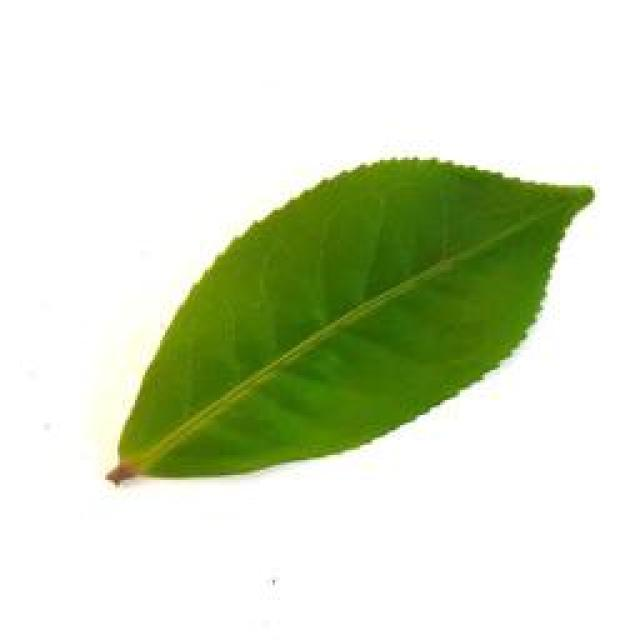Healthy: (110, 154, 594, 486)
